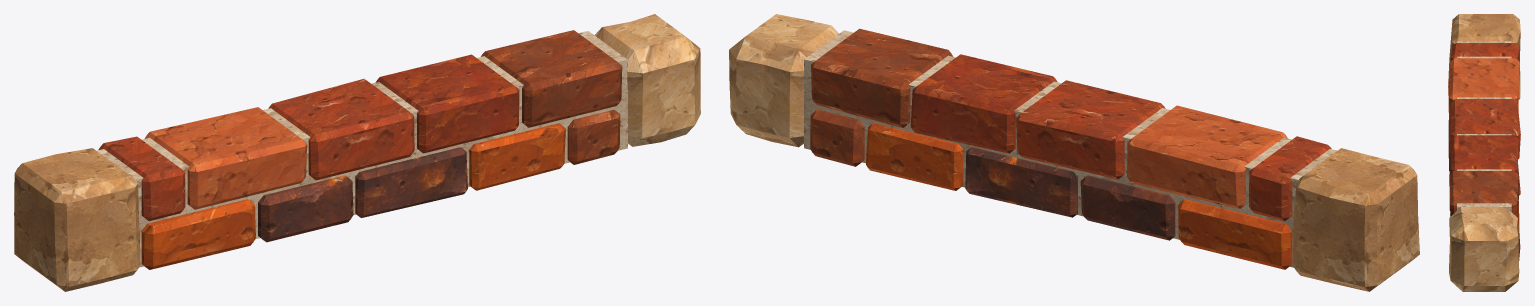
The model's file is beam__clay_brick.glb.
The picture shows the model from 3 angles, left to right: view 1: azimuth 30°, elevation 25°; view 2: azimuth 150°, elevation 25°; view 3: azimuth 270°, elevation 25°; orthographic projection. The views are drawn at different scales.
Visible parts, largest first — view 1: model; view 2: model; view 3: model.
Boxes of the visible parts, bbox=[...] form: model: bbox=[14, 14, 700, 291]; model: bbox=[729, 14, 1419, 291]; model: bbox=[1448, 14, 1520, 291].
Bounding box in the file's own units: 1.98 × 0.284 × 0.2788.
Materials: 9 (9 with a texture image).
